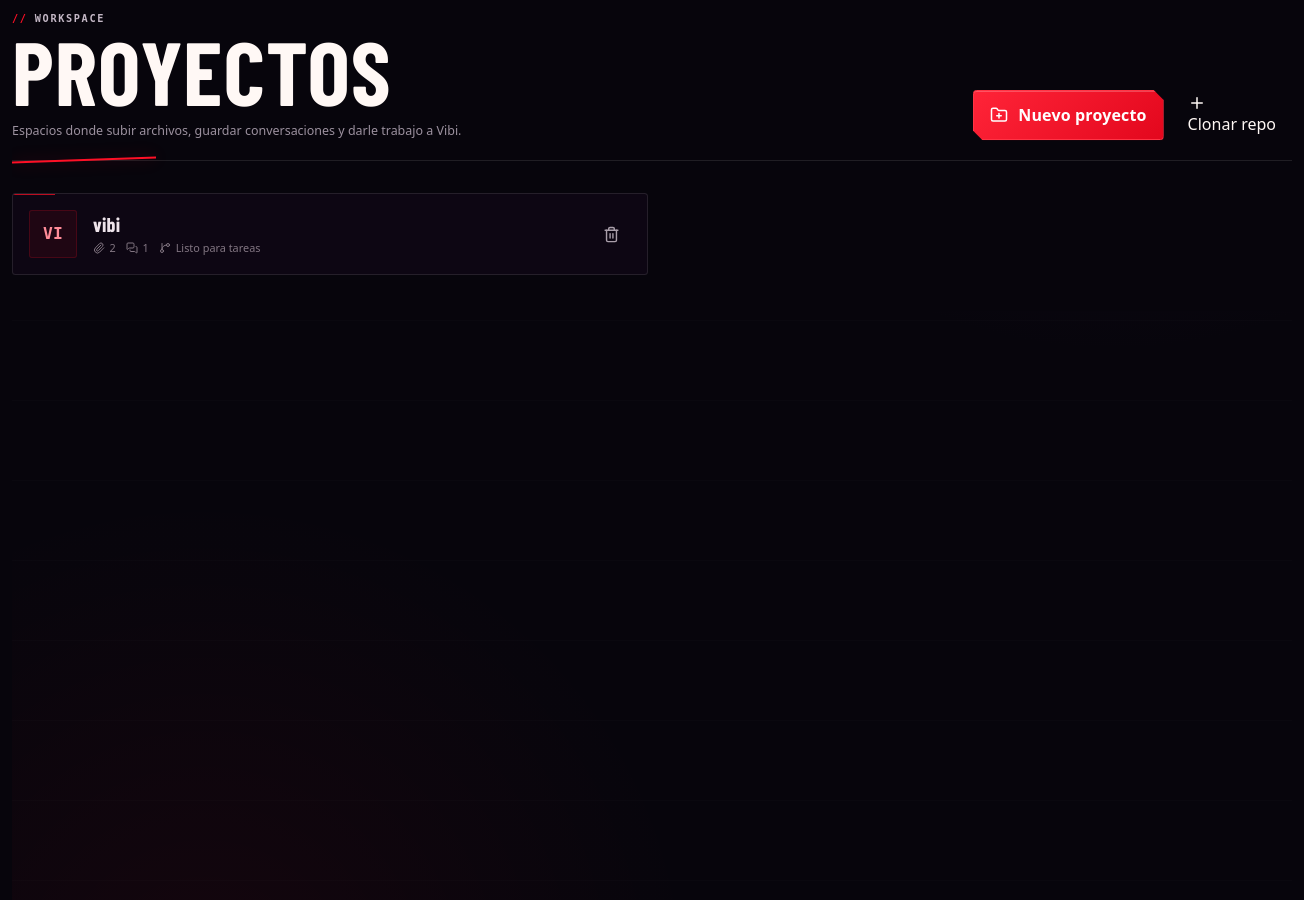
Test: ProjectsPage › confirma y elimina un proyecto desde su tarjeta
This screenshot has width=1304, height=900.
Click the button named "Eliminar proyecto vibi". click: (612, 234)
box: [593, 216, 631, 253]
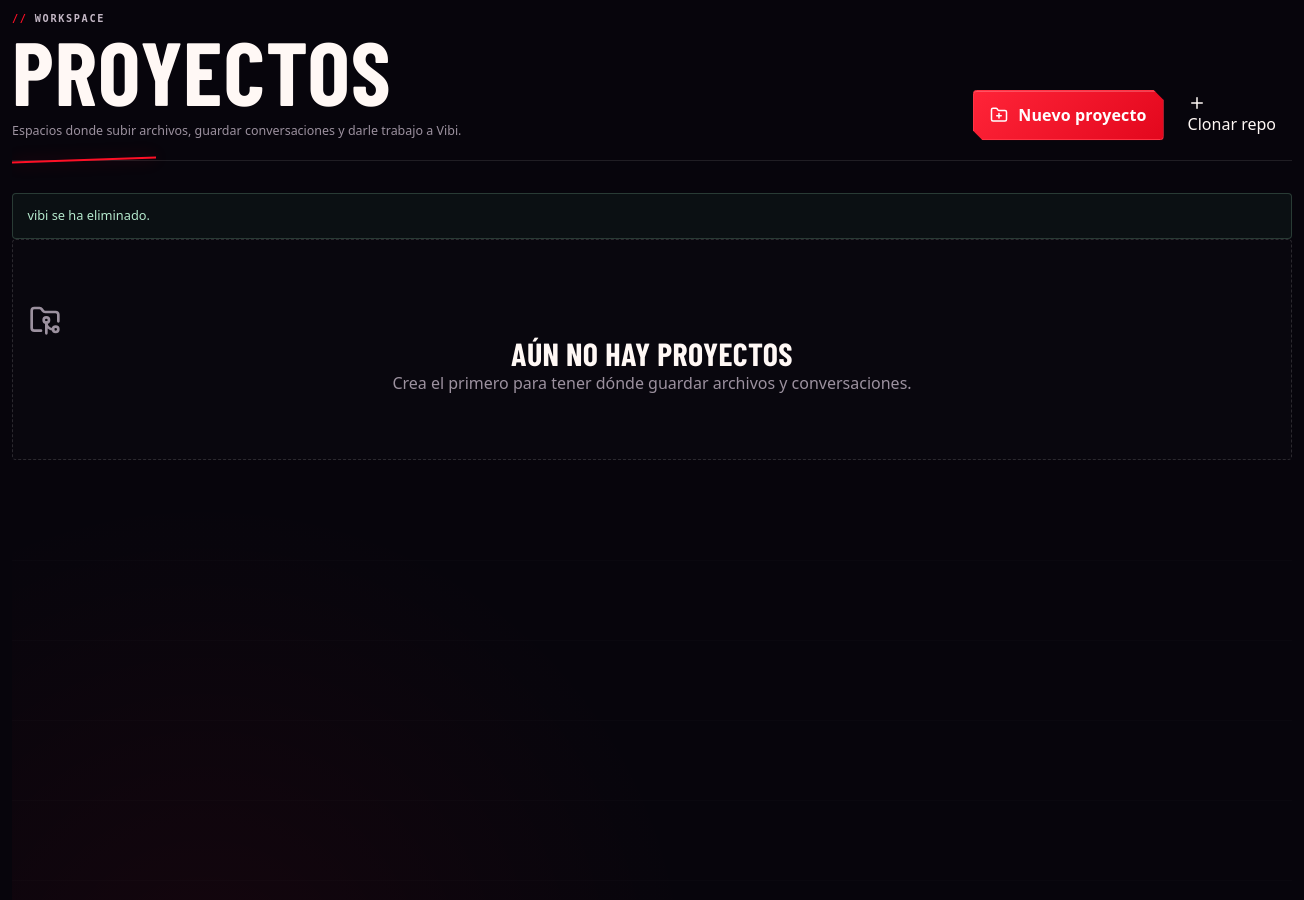
Check: the text "vibi se ha eliminado." is shown, box [12, 194, 1292, 239]
